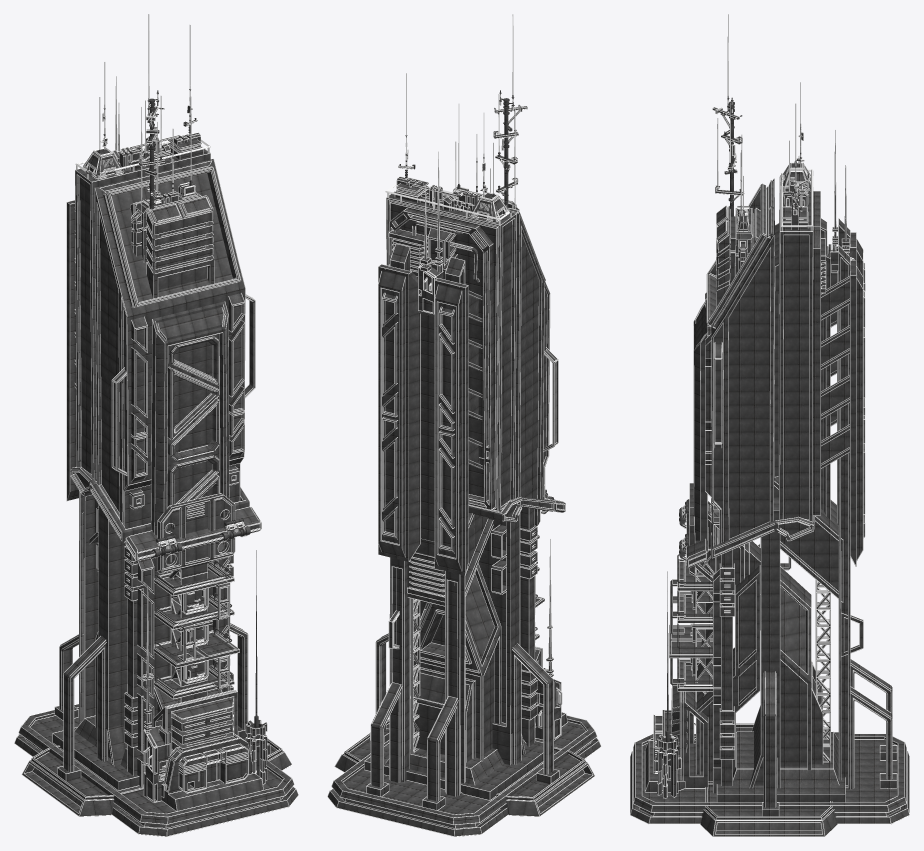
The model's file is torre_comunicaciones.obj.
3 views of the same model, side by side, from view 1: azimuth 30°, elevation 25°; view 2: azimuth 150°, elevation 25°; view 3: azimuth 270°, elevation 25° (orthographic). The views are drawn at different scales.
Parts seen in each view (by area): view 1: Torre_comunicaciones_placas_metalicas, Luces_blancas_en_aristas_del_edificio; view 2: Torre_comunicaciones_placas_metalicas, Luces_blancas_en_aristas_del_edificio; view 3: Torre_comunicaciones_placas_metalicas, Luces_blancas_en_aristas_del_edificio.
Part boxes in pixels (box(x1,y1,x2,y2)): Torre_comunicaciones_placas_metalicas: box(15, 89, 297, 836); Luces_blancas_en_aristas_del_edificio: box(14, 14, 298, 836); Torre_comunicaciones_placas_metalicas: box(328, 90, 600, 836); Luces_blancas_en_aristas_del_edificio: box(327, 14, 601, 836); Torre_comunicaciones_placas_metalicas: box(630, 96, 909, 836); Luces_blancas_en_aristas_del_edificio: box(630, 14, 909, 836).
Size of the model in its own units: 24.04 by 83.79 by 28.
2 materials, 1 textured.
